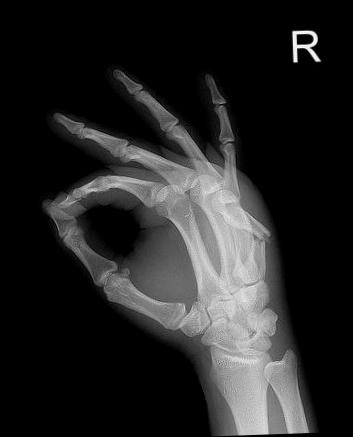fracture: (246, 230, 272, 248)
